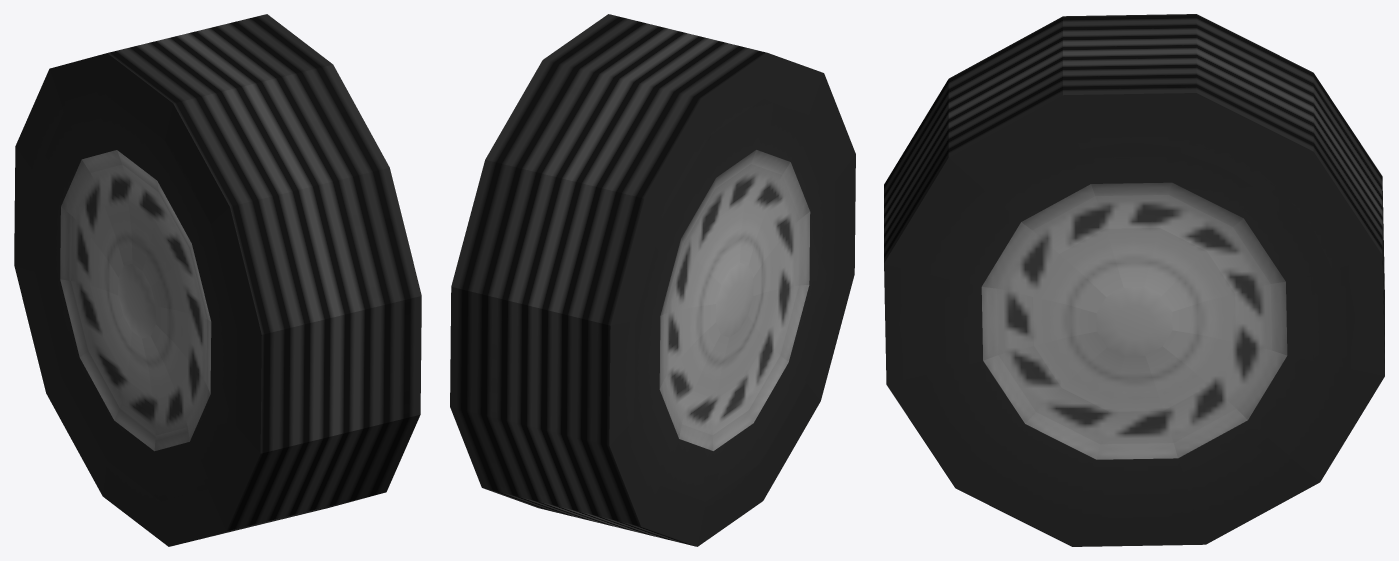
Rendered from GavrilGrandMarshalTaxiWheel.fbx.
3 renders of one model, left to right at view 1: azimuth 30°, elevation 25°; view 2: azimuth 150°, elevation 25°; view 3: azimuth 270°, elevation 25°, orthographic.
Visible parts, largest first — view 1: GavrilWheel3; view 2: GavrilWheel3; view 3: GavrilWheel3.
Part boxes in pixels (left/top/right/bottom): GavrilWheel3: left=14, top=14, right=421, bottom=546; GavrilWheel3: left=450, top=14, right=855, bottom=546; GavrilWheel3: left=884, top=14, right=1384, bottom=546.
Size of the model in its own units: 0.3721 by 0.9486 by 0.9486.
